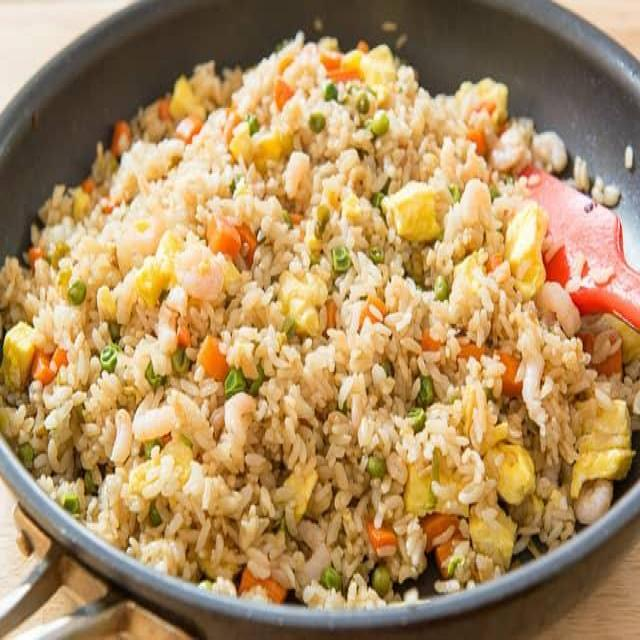Nasi Goreng: (0, 29, 637, 610)
